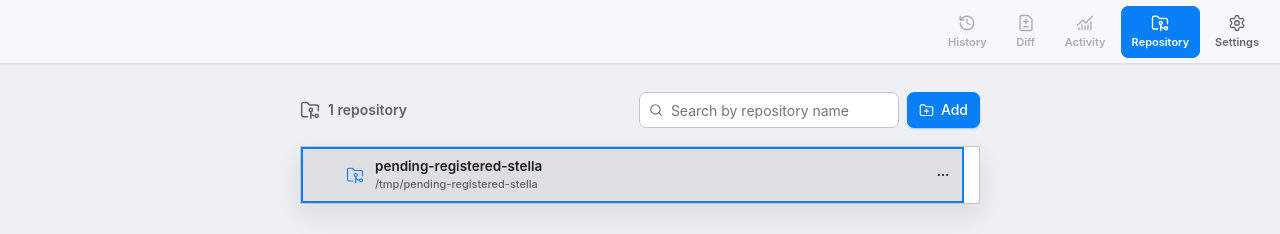
Test: App repository attach › does not attach a registered repository while its availability check is pending
Double-click the option named "pending-registered-stella/tmp/pending-registered-stella" at {"x": 459, "y": 166}, box [301, 147, 930, 203]
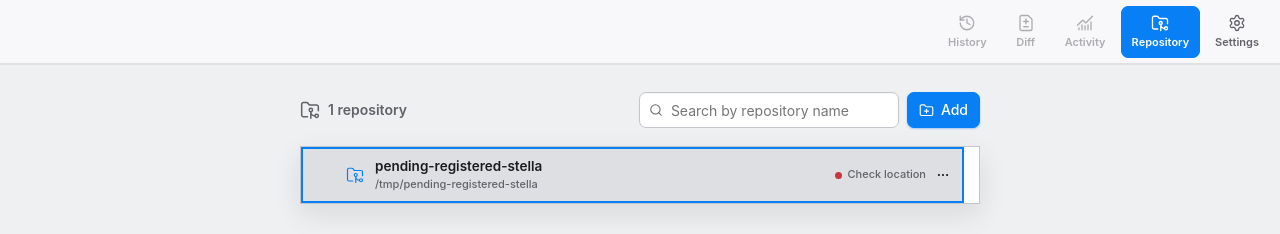
Expected: the text "Check location" is shown, [848, 167, 926, 183]
